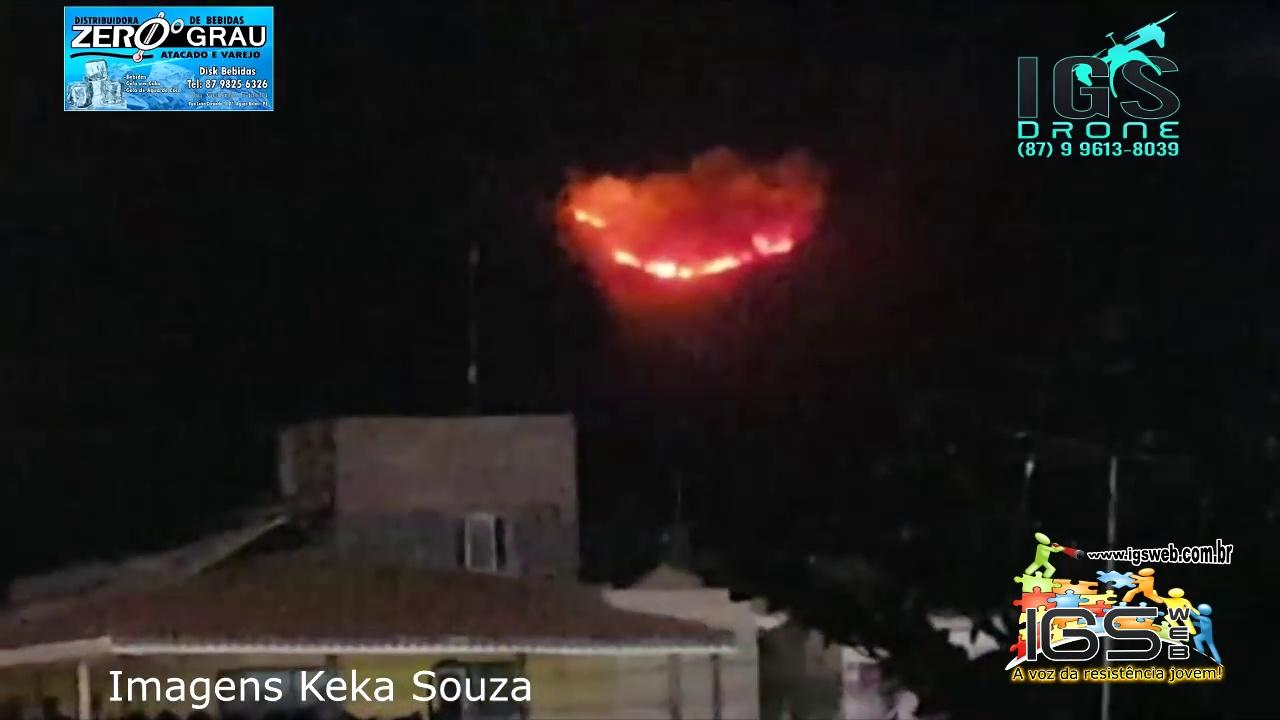fire: (612, 247, 739, 278), (751, 234, 795, 254), (575, 208, 608, 229)
